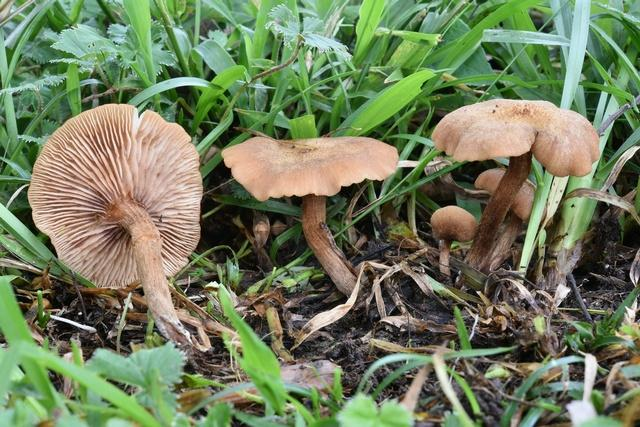edible_mushroom: (26, 101, 203, 355), (430, 97, 600, 281), (220, 134, 399, 297), (429, 204, 477, 277)
